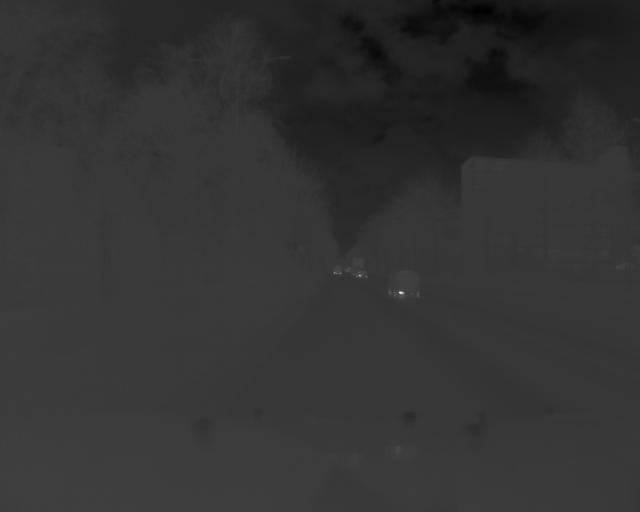car: (387, 269, 424, 302), (353, 267, 370, 280), (331, 264, 343, 275)
